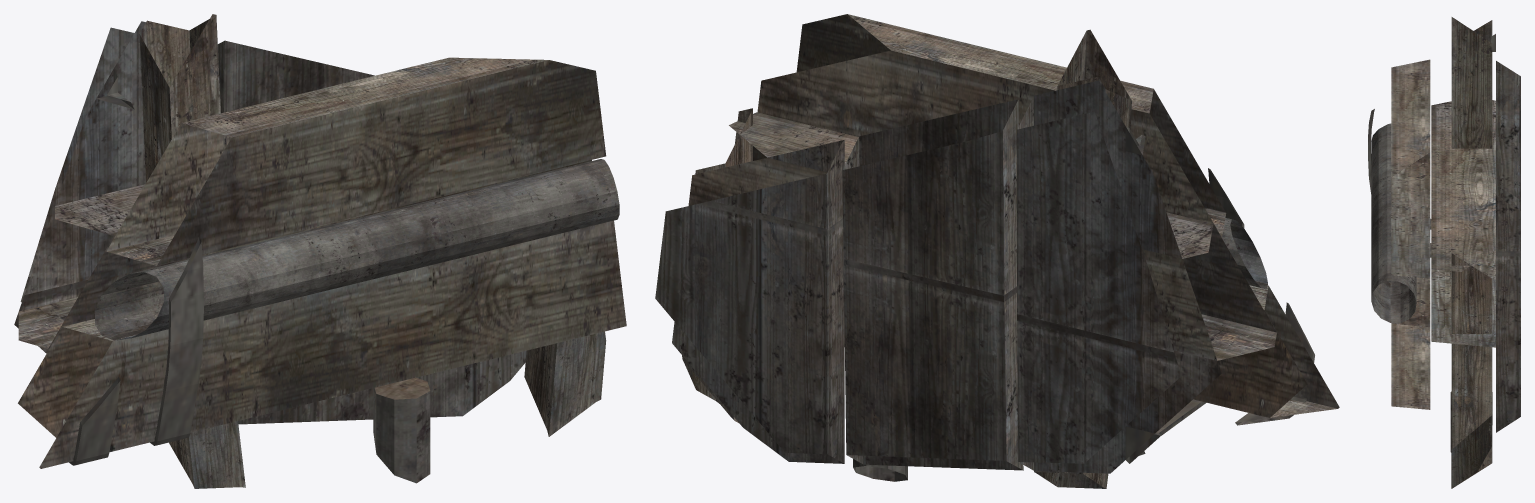
Rendered from Wagon3_13.fbx.
3 renders of one model, left to right at view 1: azimuth 30°, elevation 25°; view 2: azimuth 150°, elevation 25°; view 3: azimuth 270°, elevation 25°, orthographic. The views are drawn at different scales.
Visible parts, largest first — view 1: SM_Wagon03_DM.013; view 2: SM_Wagon03_DM.013; view 3: SM_Wagon03_DM.013.
Part boxes in pixels (box(x1,y1,x2,y2)): SM_Wagon03_DM.013: box(14, 14, 626, 488); SM_Wagon03_DM.013: box(655, 14, 1339, 488); SM_Wagon03_DM.013: box(1368, 17, 1520, 488).
Size of the model in its own units: 9321 by 7470 by 2812.
